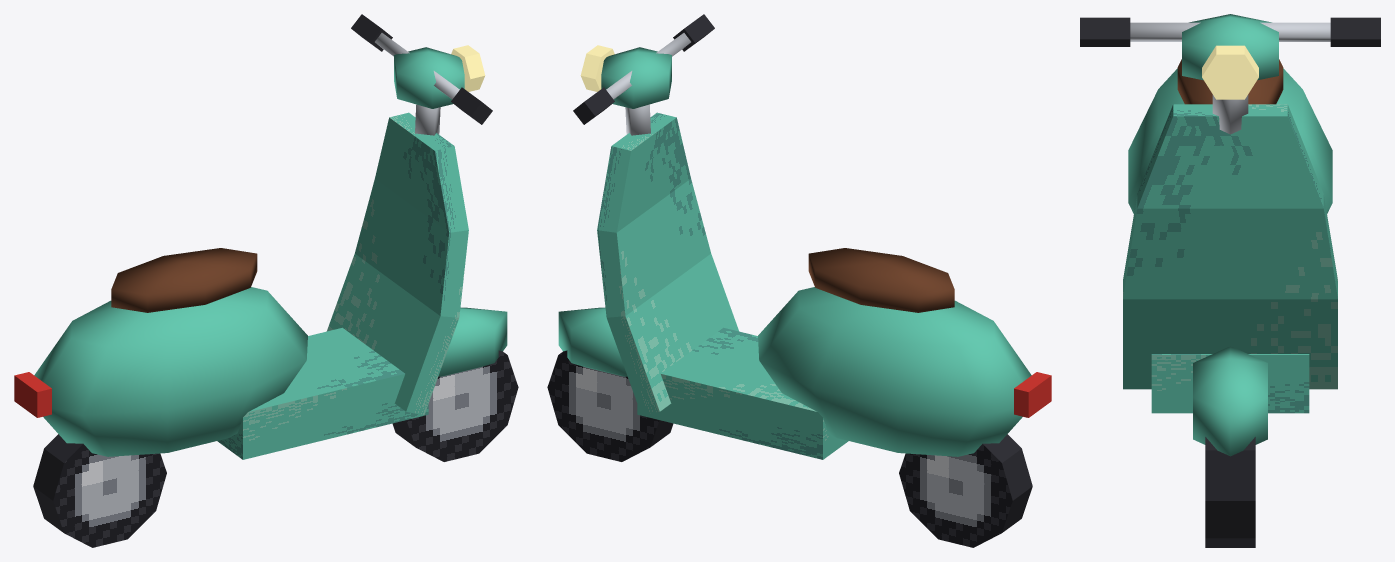
File: outdoors-motorScooter.glb
3 renders of one model, left to right at view 1: azimuth 30°, elevation 25°; view 2: azimuth 150°, elevation 25°; view 3: azimuth 270°, elevation 25°, orthographic. The views are drawn at different scales.
Visible parts, largest first — view 1: outdoors.motorScooter; view 2: outdoors.motorScooter; view 3: outdoors.motorScooter.
Boxes of the visible parts, box(x1,y1,x2,y2) form: outdoors.motorScooter: box(14, 14, 518, 547); outdoors.motorScooter: box(547, 14, 1051, 547); outdoors.motorScooter: box(1080, 14, 1380, 547).
Size of the model in its own units: 1.67 by 1.34 by 0.7214.
Materials: 8 (5 with a texture image).
